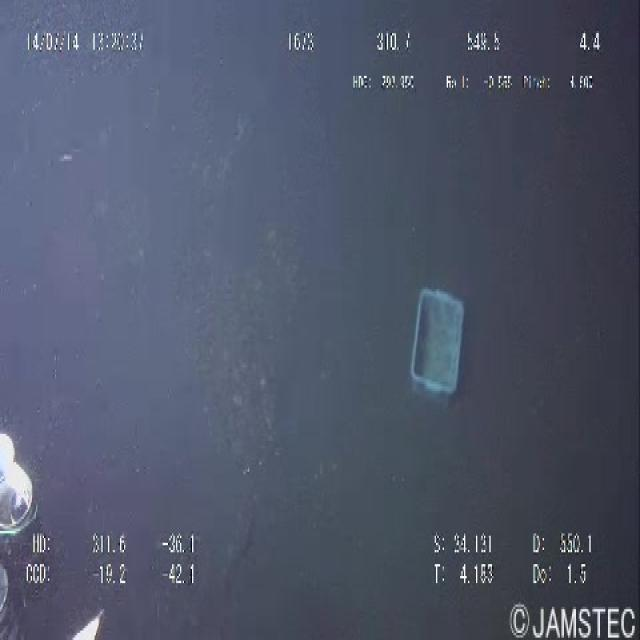plastic: (391, 256, 477, 410)
